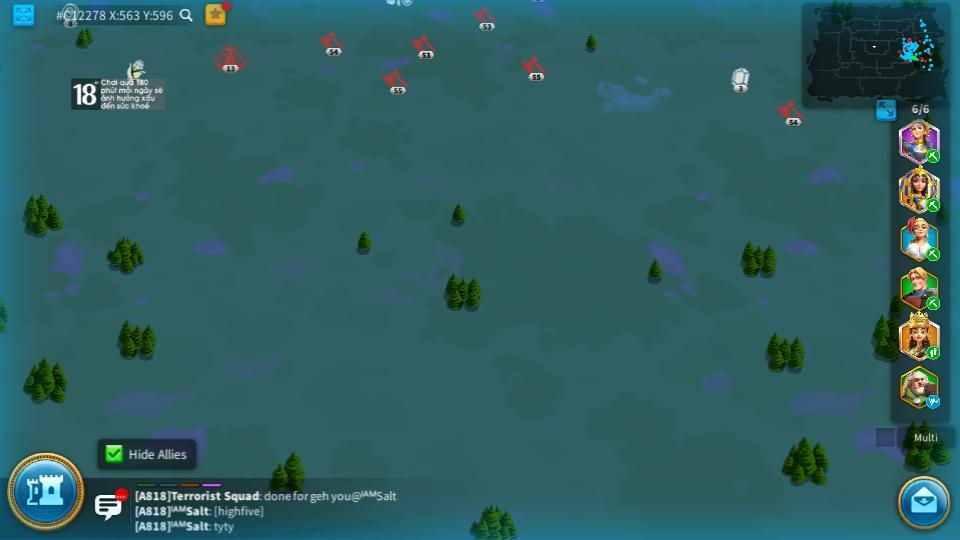gem-z-out: (729, 68, 750, 91)
march_farming: (925, 197, 941, 212), (925, 248, 941, 260)
march_idle: (925, 394, 942, 408)
march_marching: (925, 345, 941, 359), (925, 150, 942, 162), (925, 297, 942, 308)
